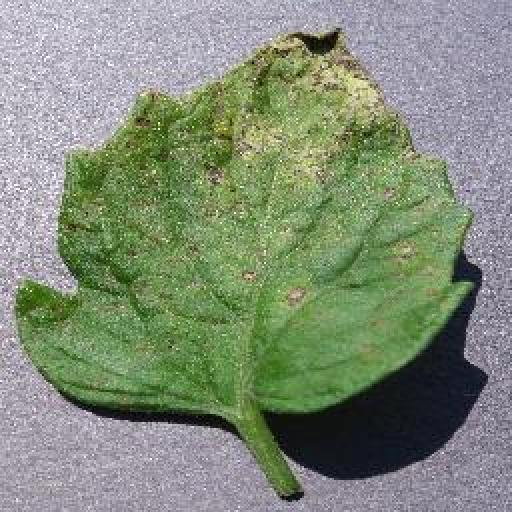Septoria: (15, 25, 472, 416)
